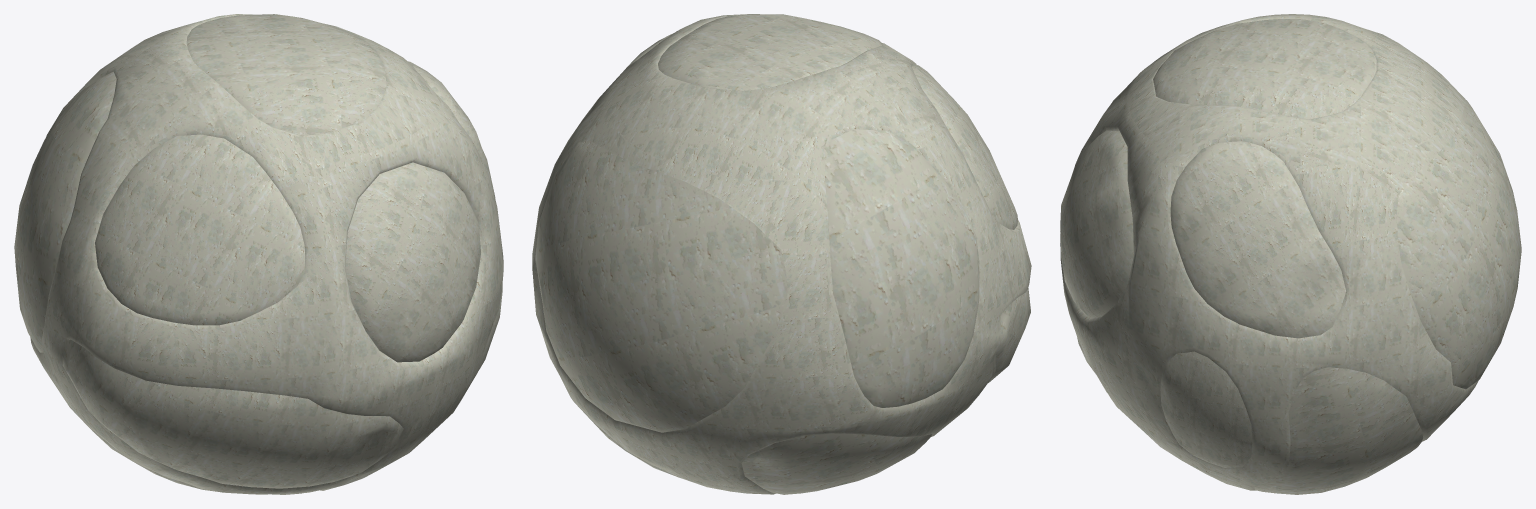
The model's file is HikeGardenBoulderPlanet.fbx.
3 views of the same model, side by side, from view 1: azimuth 30°, elevation 25°; view 2: azimuth 150°, elevation 25°; view 3: azimuth 270°, elevation 25° (orthographic). The views are drawn at different scales.
Parts seen in each view (by area): view 1: Sphere.000, Sphere.014; view 2: Sphere.000, Sphere.014; view 3: Sphere.000, Sphere.014.
Boxes of the visible parts, x1=… form: Sphere.000: x1=14, y1=14, x2=502, y2=494; Sphere.014: x1=30, y1=14, x2=503, y2=494; Sphere.000: x1=535, y1=14, x2=1030, y2=494; Sphere.014: x1=532, y1=14, x2=1031, y2=494; Sphere.000: x1=1060, y1=19, x2=1521, y2=494; Sphere.014: x1=1060, y1=14, x2=1478, y2=490.
Bounding box in the file's own units: 202597 × 197062 × 198418.
2 materials, 2 textured.
